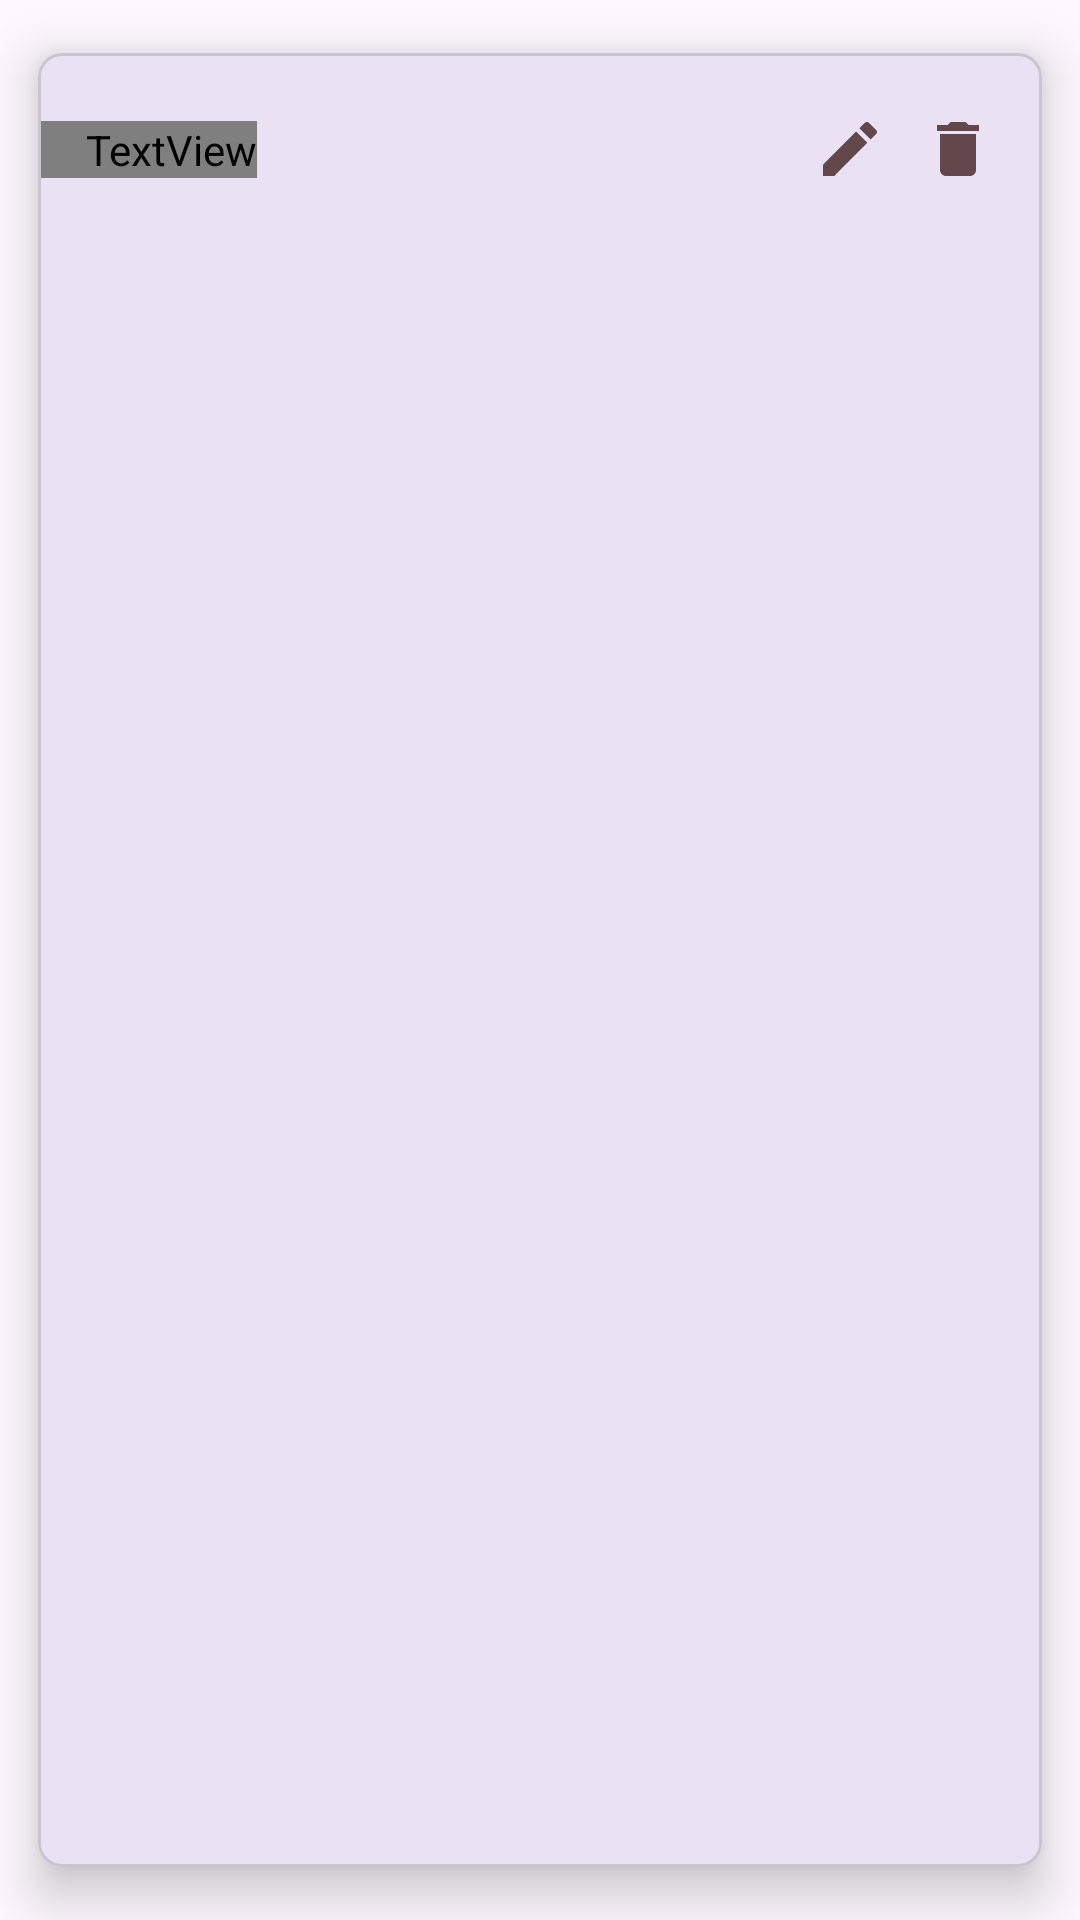

Where icons sit on this 1080w x 1920h app screen, as bbox=(x1, y1, x2, y2):
delete: bbox=(937, 122, 979, 176)
edit: bbox=(823, 122, 877, 176)
